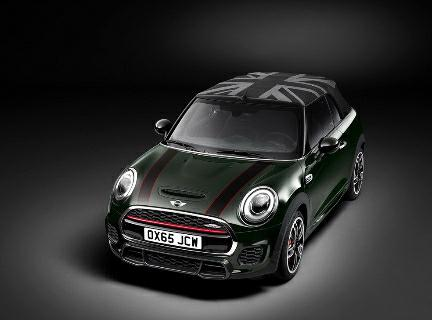MINI-JCW: (102, 69, 369, 292)
